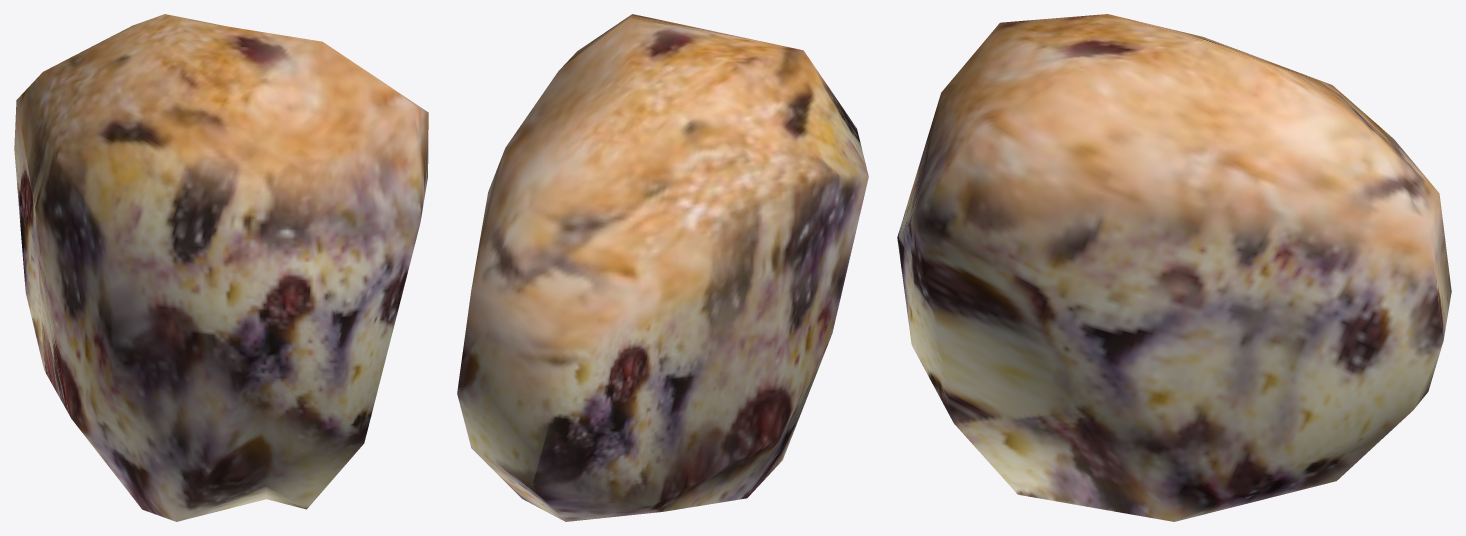
The model's file is CupcakePiece.fbx.
3 renders of one model, left to right at view 1: azimuth 30°, elevation 25°; view 2: azimuth 150°, elevation 25°; view 3: azimuth 270°, elevation 25°, orthographic. The views are drawn at different scales.
Visible parts, largest first — view 1: Sphere; view 2: Sphere; view 3: Sphere.
Boxes of the visible parts, <box> form: Sphere: <box>14,14,428,521</box>; Sphere: <box>457,14,868,521</box>; Sphere: <box>897,14,1451,521</box>.
Bounding box in the file's own units: 154 × 210 × 230.
